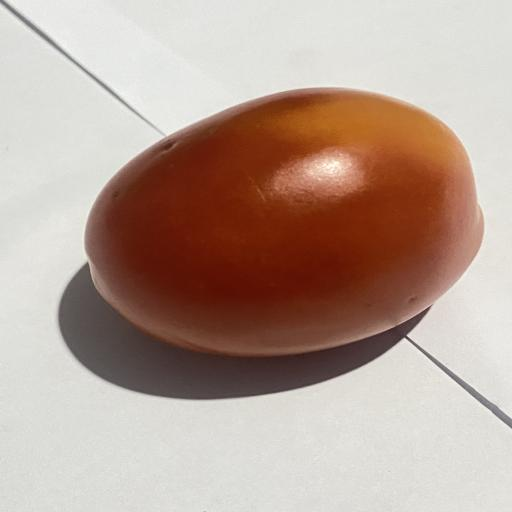ripe: (85, 88, 484, 357)
